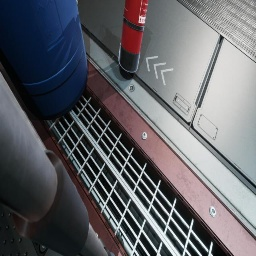FireExtinguisher ]: (118, 0, 148, 72)
